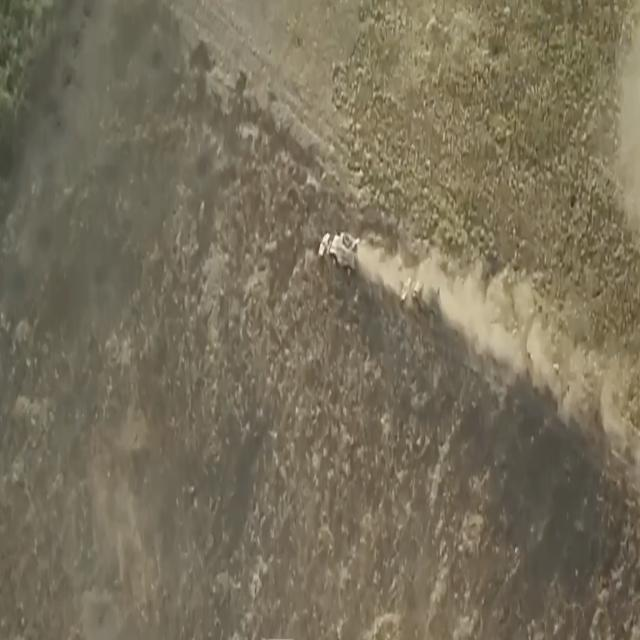vehicle: (402, 271, 443, 337), (317, 224, 360, 276)
